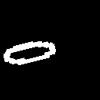chain: (4, 42, 55, 64)
